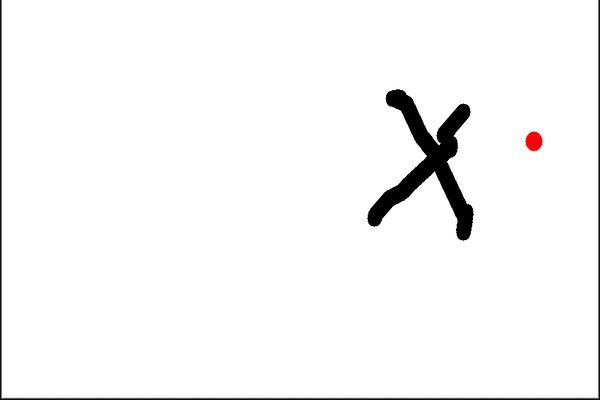X: (344, 68, 502, 253)
